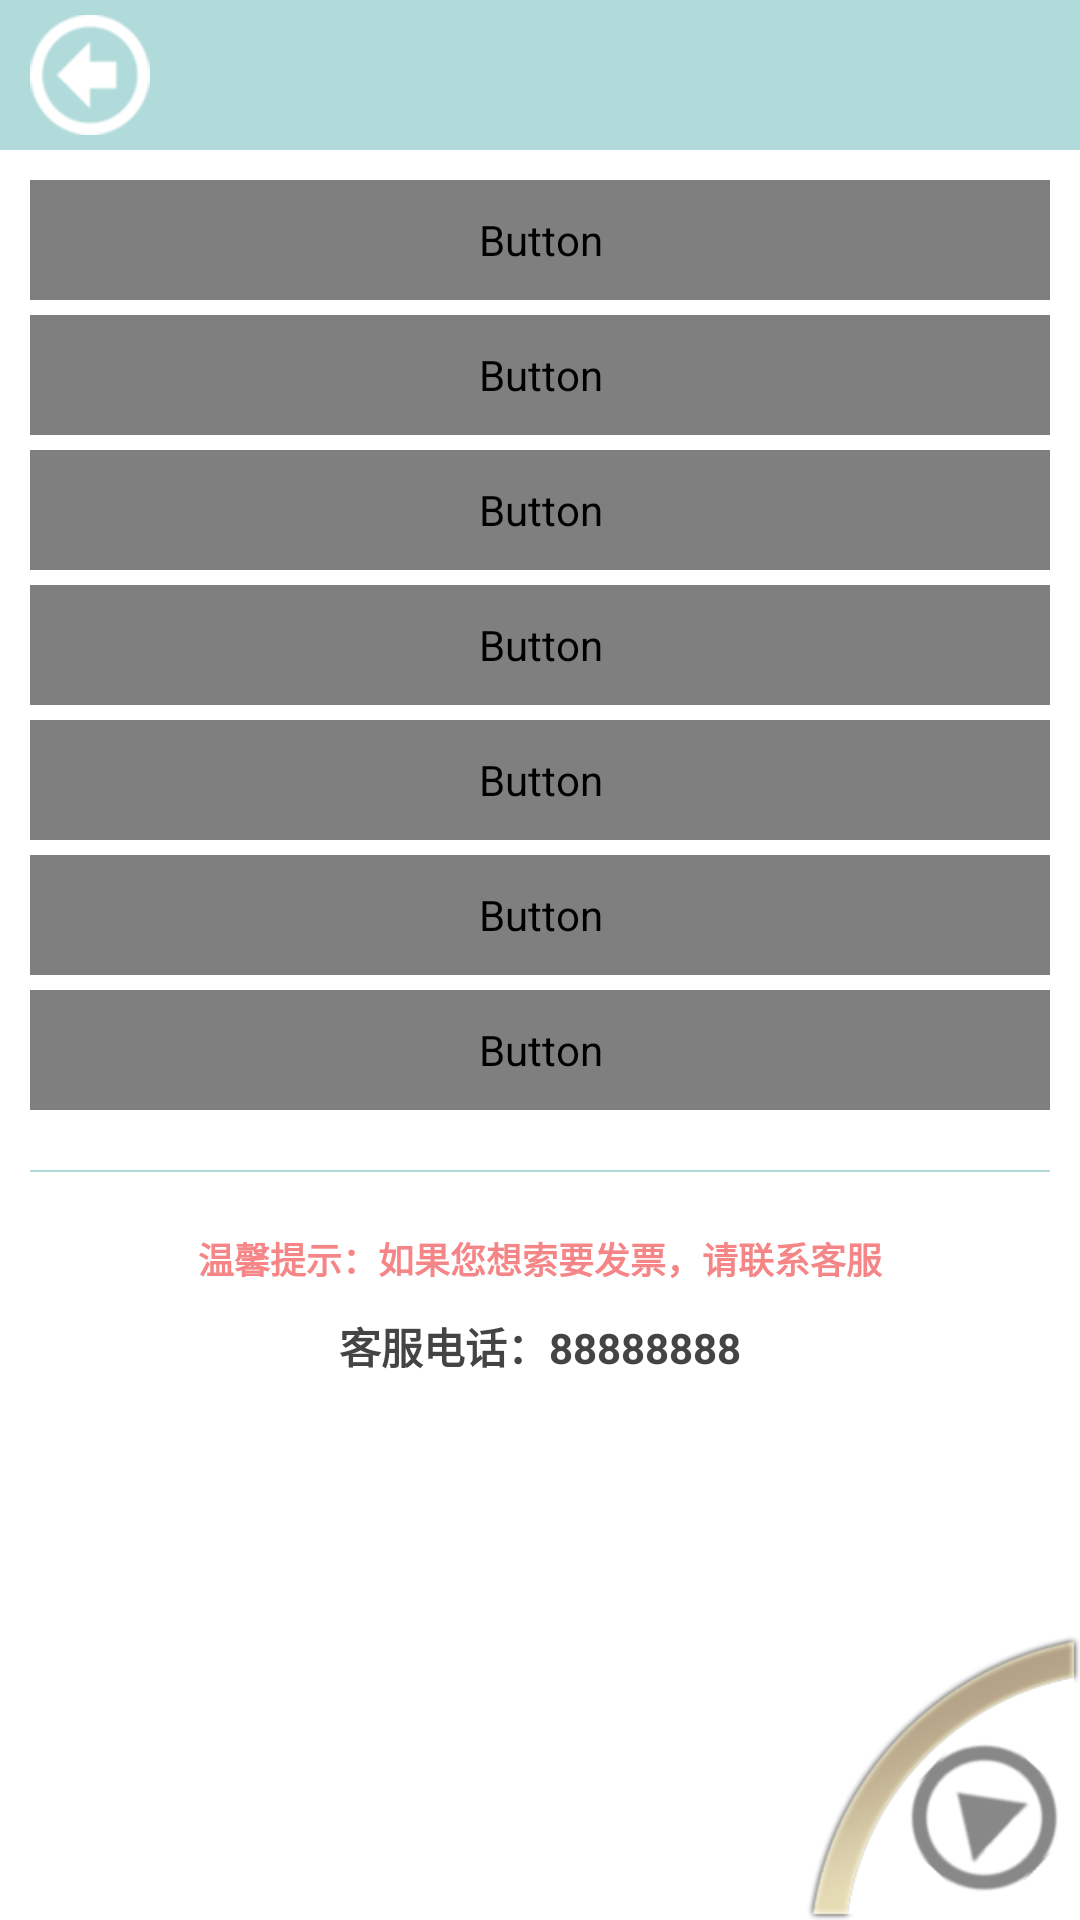

Screen size 1080 × 1920. Icon name, then its box in pixels as (x1, y1, x2, y2):
back: (30, 15, 150, 135)
